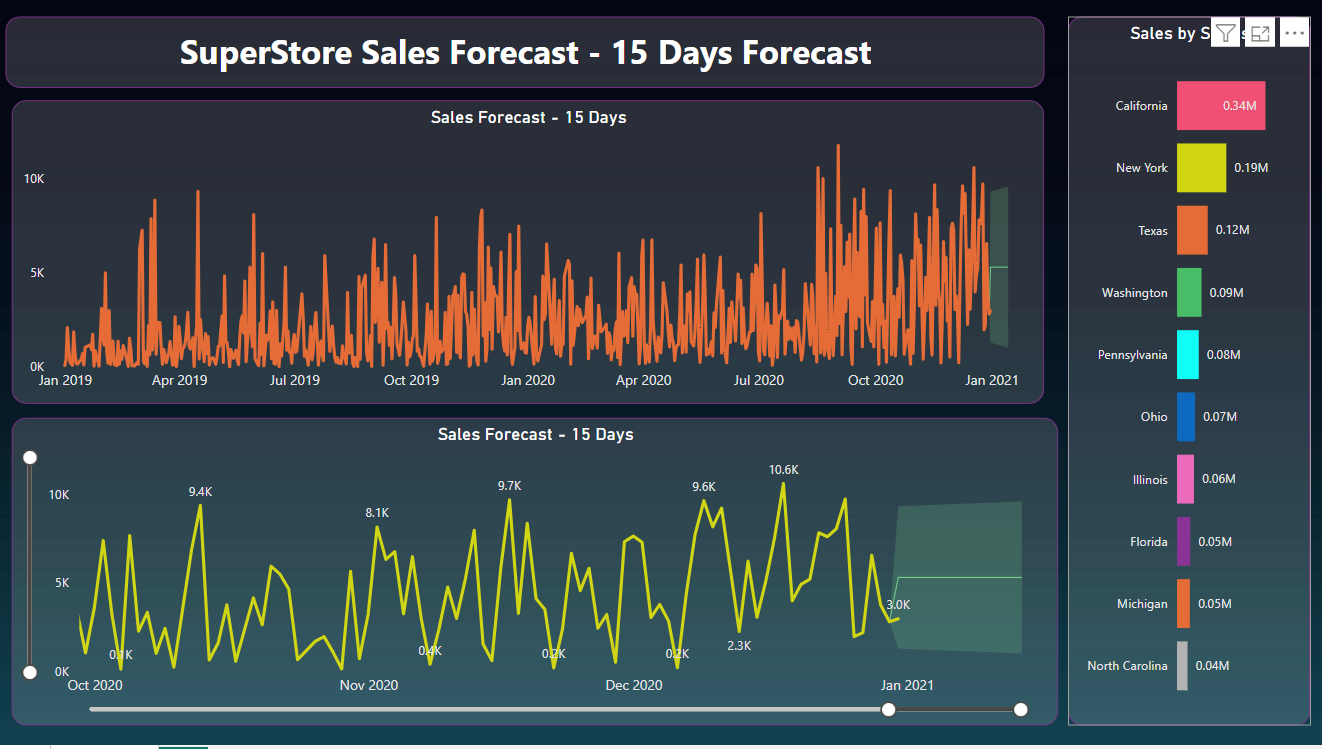

The page's visual inventory and layout, read from the dashboard file:
{"tool":"powerbi","page":{"name":"Forecast","canvas":[1280,720],"ordinal":1},"visuals":[{"type":"lineChart","title":"Sales Forecast - 15 Days","fields":{"Y":["Sum(SuperStore_Sales_Dataset.Sales)"],"Category":["SuperStore_Sales_Dataset.Order Date.Variation.Date Hierarchy.Year","SuperStore_Sales_Dataset.Order Date.Variation.Date Hierarchy.Month","SuperStore_Sales_Dataset.Order Date.Variation.Date Hierarchy.Day"]},"box":[13.3,97.7,996.2,293.1],"z":0},{"type":"lineChart","title":"Sales Forecast - 15 Days","fields":{"Y":["Sum(SuperStore_Sales_Dataset.Sales)"],"Category":["SuperStore_Sales_Dataset.Order Date.Variation.Date Hierarchy.Year","SuperStore_Sales_Dataset.Order Date.Variation.Date Hierarchy.Month","SuperStore_Sales_Dataset.Order Date.Variation.Date Hierarchy.Day"]},"box":[13.3,404,1009.4,296.7],"z":1000},{"type":"clusteredBarChart","title":"Sales by States","fields":{"Y":["Sum(SuperStore_Sales_Dataset.Sales)"],"Category":["SuperStore_Sales_Dataset.State"]},"box":[1032.4,16.9,234,683.8],"z":2000},{"type":"textbox","box":[7.2,16.9,1002.2,68.7],"z":3000}]}

Visuals, with their boxes in screenshot pixels (x1, y1, x2, y2), scaled from the page's 1280x720 canvas onto the 1322x749 screenshot:
"Sales Forecast - 15 Days" lineChart: crop(14, 102, 1043, 407)
"Sales Forecast - 15 Days" lineChart: crop(14, 420, 1056, 729)
"Sales by States" clusteredBarChart: crop(1066, 18, 1308, 729)
textbox: crop(7, 18, 1043, 89)
